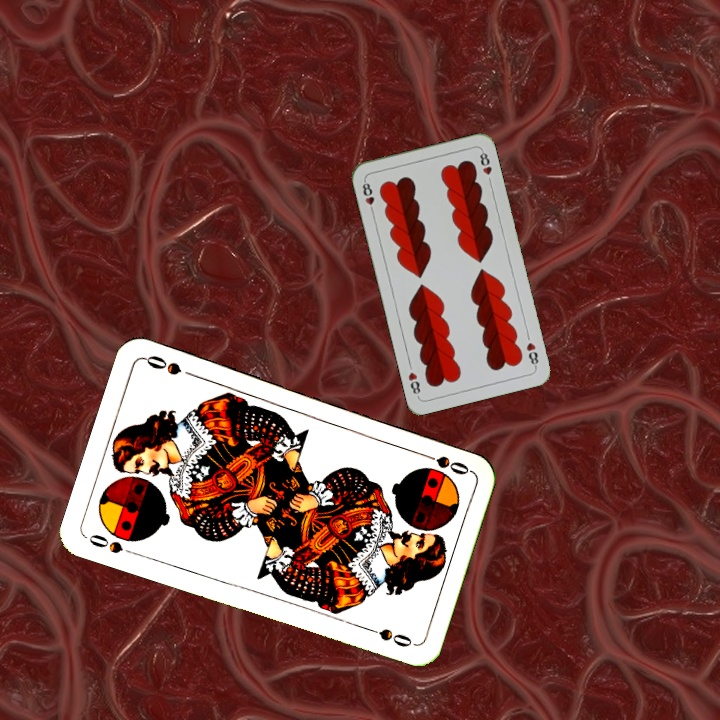H8: (358, 176, 377, 216), (522, 338, 541, 370)
SO: (415, 448, 472, 478), (82, 530, 140, 558)
